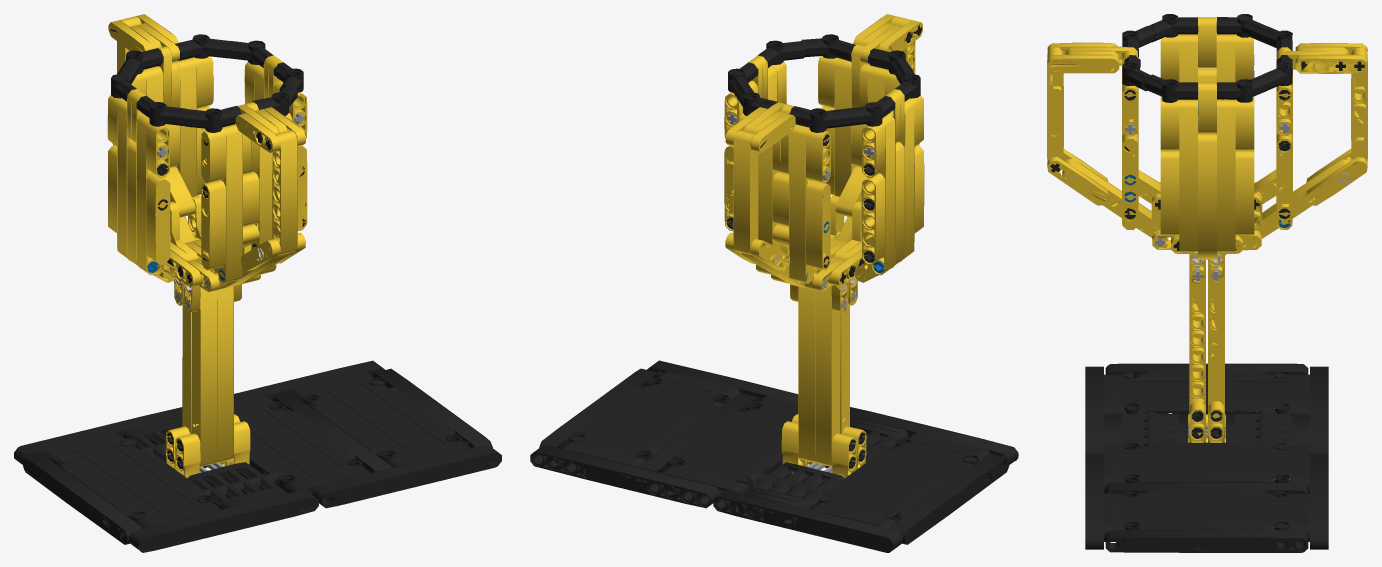
Rendered from mali trofej.fbx.
3 renders of one model, left to right at view 1: azimuth 30°, elevation 25°; view 2: azimuth 150°, elevation 25°; view 3: azimuth 270°, elevation 25°, orthographic. The views are drawn at different scales.
Visible parts, largest first — view 1: 00127_32073.dat; view 2: 00127_32073.dat; view 3: 00127_32073.dat.
Boxes of the visible parts, x1,y1,x2,y2 form: 00127_32073.dat: (14,14,501,552); 00127_32073.dat: (530,14,1018,552); 00127_32073.dat: (1047,14,1367,552).
Size of the model in its own units: 440 by 463 by 343.
